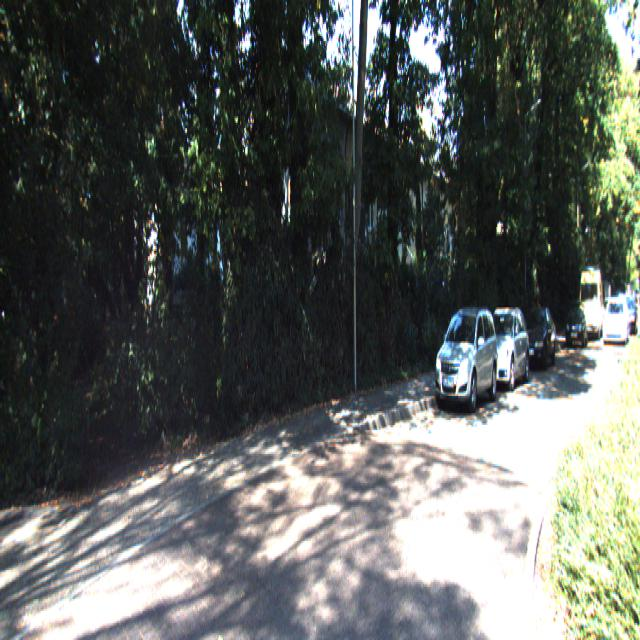Car: (433, 304, 498, 416), (476, 306, 529, 392), (522, 307, 556, 372), (577, 264, 603, 340), (564, 300, 587, 350)
